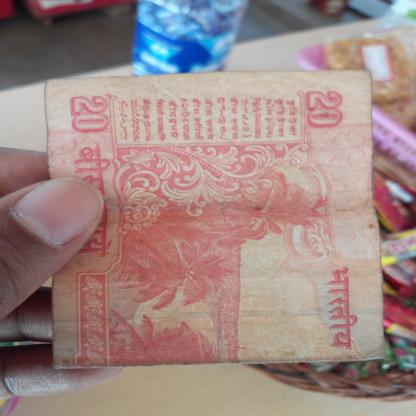Old20Back: (41, 76, 386, 364)
